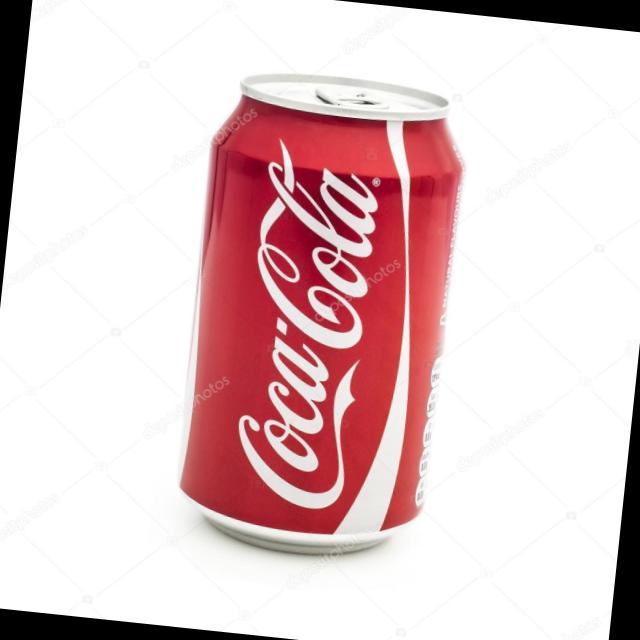cocacola: (172, 67, 468, 566)
